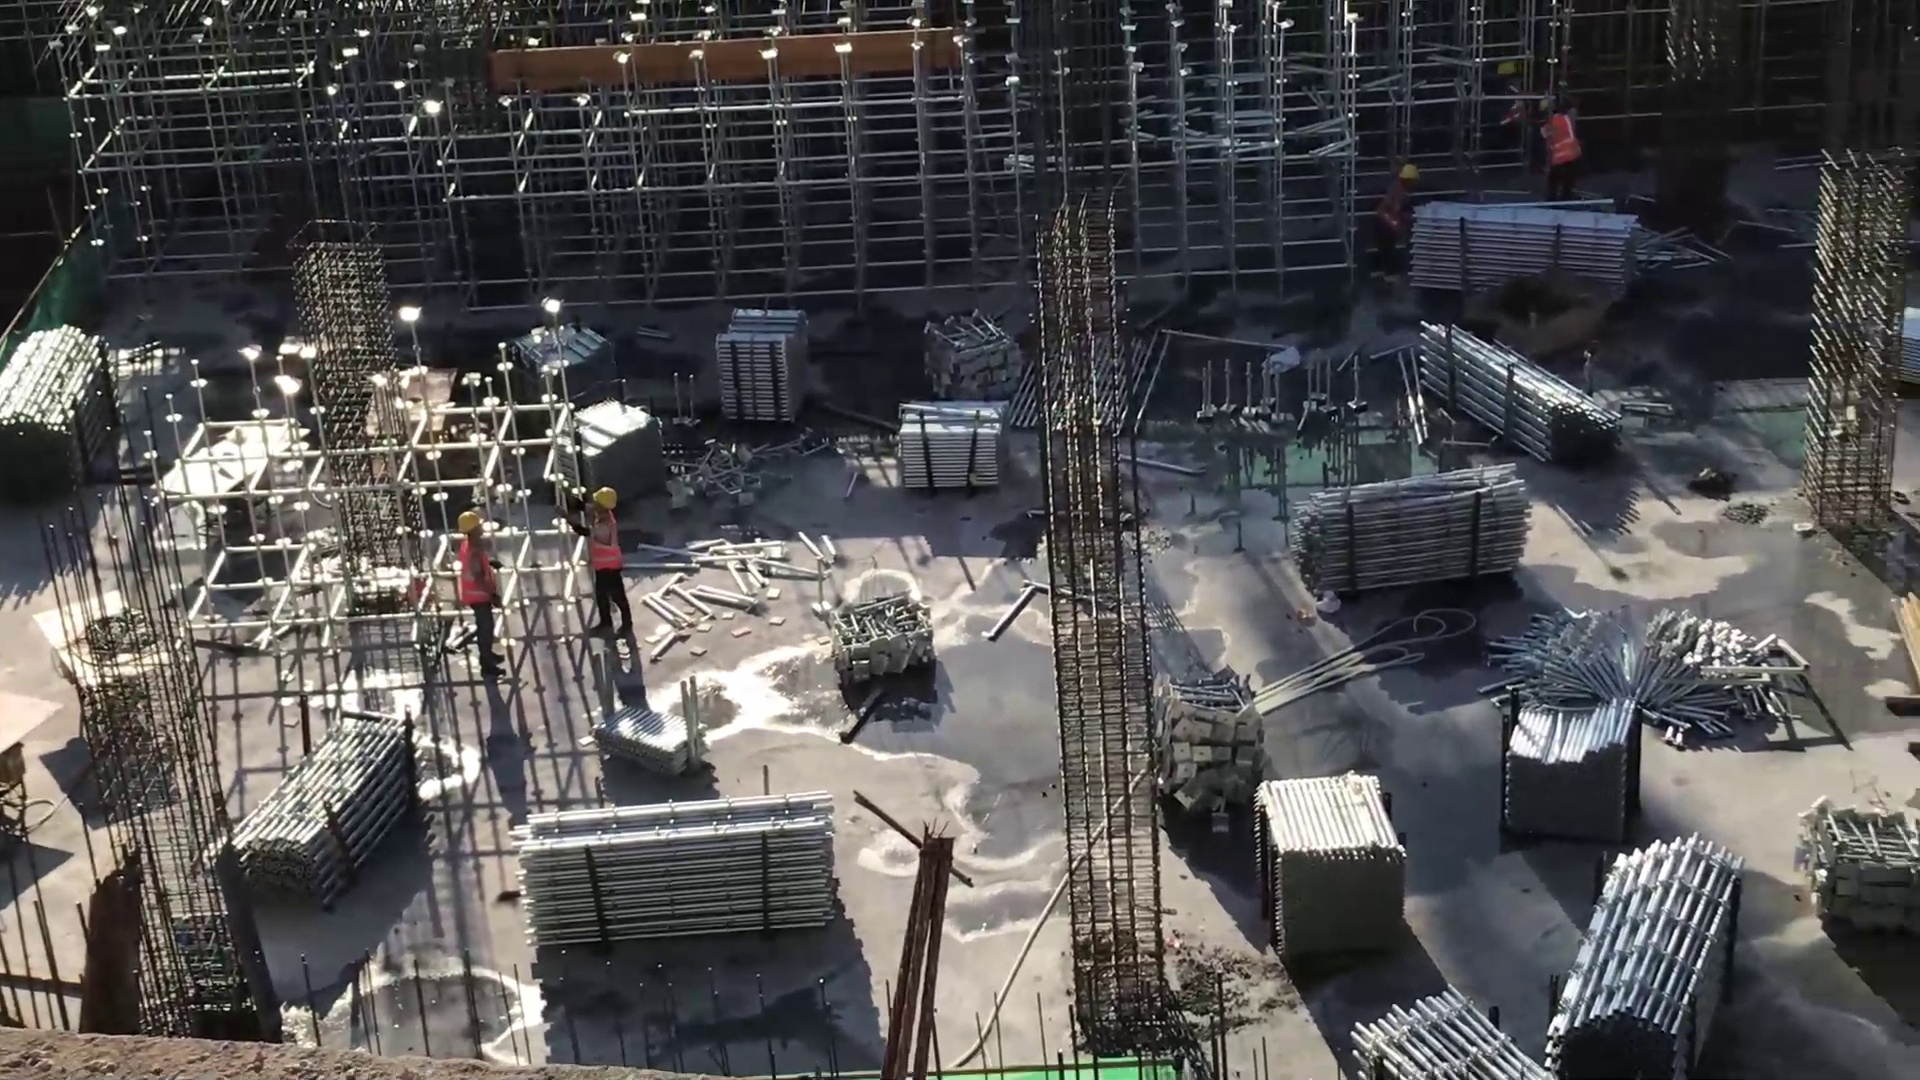helmet: (589, 487, 622, 506), (457, 512, 482, 533), (1401, 166, 1420, 180)
person: (447, 508, 516, 687), (574, 483, 642, 642), (1528, 93, 1590, 195), (1379, 151, 1427, 269), (1485, 58, 1543, 147)
scaffold: (506, 792, 843, 941), (1554, 842, 1746, 1080), (216, 707, 406, 881), (1250, 772, 1411, 960), (1308, 469, 1533, 583), (1428, 322, 1615, 453), (1417, 207, 1648, 292), (1513, 694, 1635, 842), (1351, 981, 1524, 1080), (9, 329, 108, 483), (715, 310, 820, 424), (890, 397, 1009, 492)
vest: (587, 516, 621, 579), (459, 543, 492, 607)
